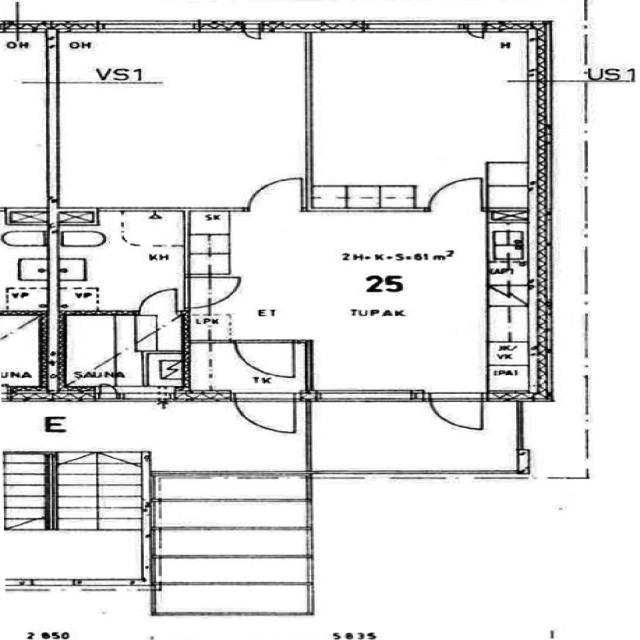door: (225, 336, 307, 384), (229, 388, 306, 439), (424, 391, 492, 437), (240, 172, 308, 212), (426, 173, 491, 213), (184, 274, 248, 308), (136, 288, 183, 316)
window: (312, 384, 420, 407), (351, 17, 466, 38), (89, 18, 206, 38)
zone: (184, 212, 529, 362), (48, 30, 310, 210), (305, 26, 532, 208), (53, 208, 189, 314), (0, 585, 153, 639), (56, 312, 140, 396), (0, 213, 50, 316), (0, 308, 51, 399)
